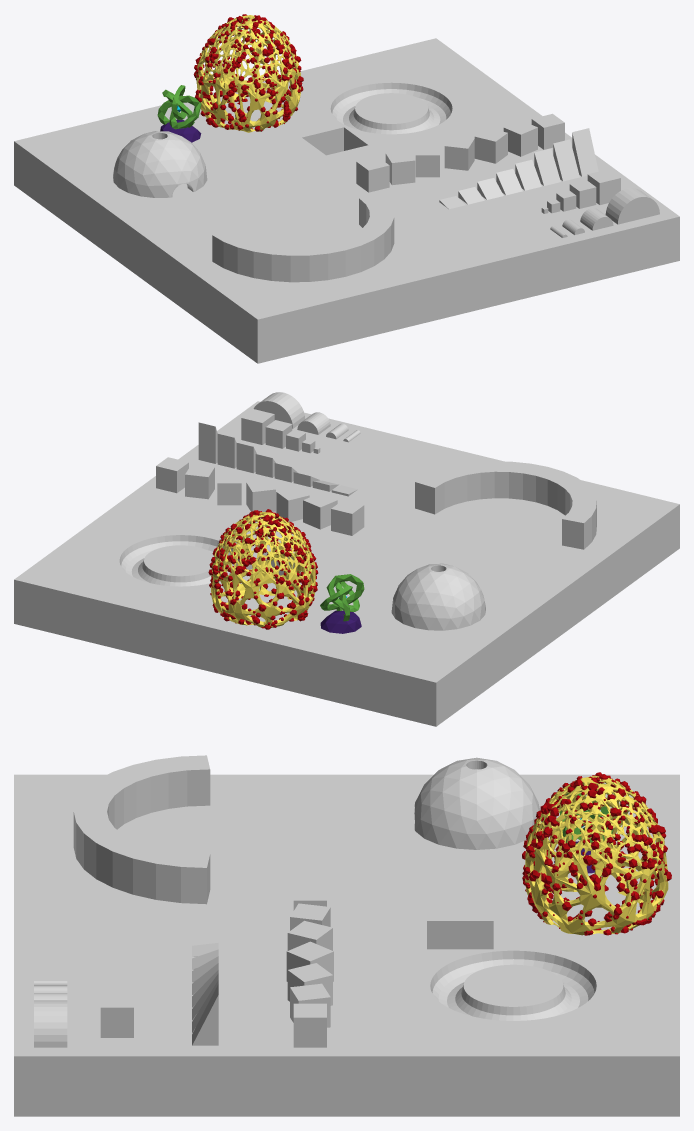
Rendered from test map.fbx.
3 renders of one model, top to bottom at view 1: azimuth 30°, elevation 25°; view 2: azimuth 150°, elevation 25°; view 3: azimuth 270°, elevation 25°, orthographic. The views are drawn at different scales.
Parts seen in each view (by area): view 1: Cube, the great egg, Cylinder.001, Icosphere.001, ring ring, Cylinder.004, Cube.014, Cube.018, Cube.017, Cube.019, Cube.013, Cube.015 (+7 smaller); view 2: Cube, the great egg, Cylinder.001, Icosphere.001, ring ring, Cylinder.004, Cube.014, Cube.020, Cube.019, Cube.015, Cube.017, Cube.005 (+7 smaller); view 3: Cube, the great egg, Cylinder.001, Icosphere.001, Cylinder.004, Cube.005, Cube.020, Cube.017, Cube.013, Cube.018, Cube.016, Cube.019 (+2 smaller).
Part boxes in pixels (x1,y1,x2,y2): Cube: [14, 38, 679, 363]; the great egg: [193, 14, 303, 132]; Cylinder.001: [212, 194, 394, 282]; Icosphere.001: [113, 131, 207, 197]; ring ring: [157, 85, 201, 142]; Cylinder.004: [605, 188, 659, 224]; Cube.014: [356, 156, 389, 192]; Cube.018: [474, 128, 507, 163]; Cube.017: [444, 136, 474, 170]; Cube.019: [503, 120, 537, 156]; Cube.013: [572, 128, 598, 176]; Cube.015: [385, 150, 415, 185]; Cube: [14, 401, 679, 726]; the great egg: [208, 509, 318, 629]; Cylinder.001: [415, 461, 596, 549]; Icosphere.001: [391, 563, 485, 630]; ring ring: [320, 574, 364, 633]; Cylinder.004: [253, 392, 305, 428]; Cube.014: [331, 500, 364, 535]; Cube.020: [156, 457, 188, 493]; Cube.019: [185, 464, 214, 499]; Cube.015: [303, 493, 337, 529]; Cube.017: [246, 479, 275, 511]; Cube.005: [241, 409, 274, 444]; Cube: [14, 774, 679, 1116]; the great egg: [522, 772, 671, 935]; Cylinder.001: [73, 755, 210, 904]; Icosphere.001: [414, 757, 541, 849]; Cylinder.004: [34, 1000, 67, 1047]; Cube.005: [100, 993, 133, 1037]; Cube.020: [293, 1003, 326, 1047]; Cube.017: [286, 941, 333, 981]; Cube.013: [192, 984, 218, 1045]; Cube.018: [287, 963, 332, 1005]; Cube.016: [287, 920, 332, 950]; Cube.019: [290, 983, 330, 1027].
Size of the model in its own units: 20000 by 6401 by 20000.
